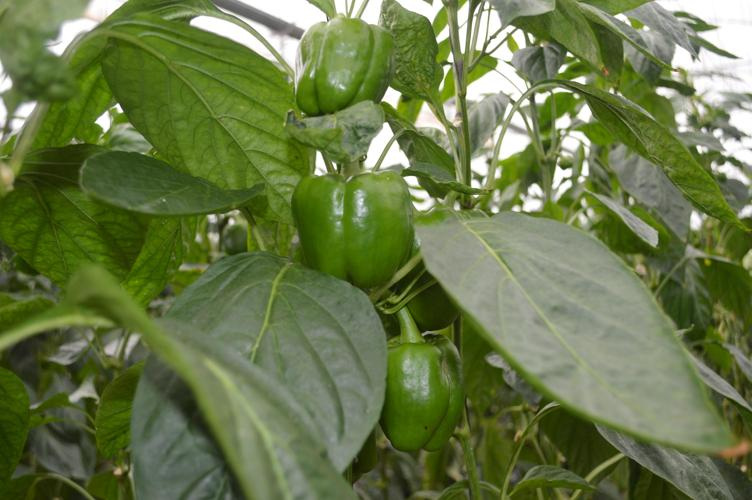BellPepper: (364, 328, 492, 488), (292, 170, 418, 317), (286, 18, 409, 130)
